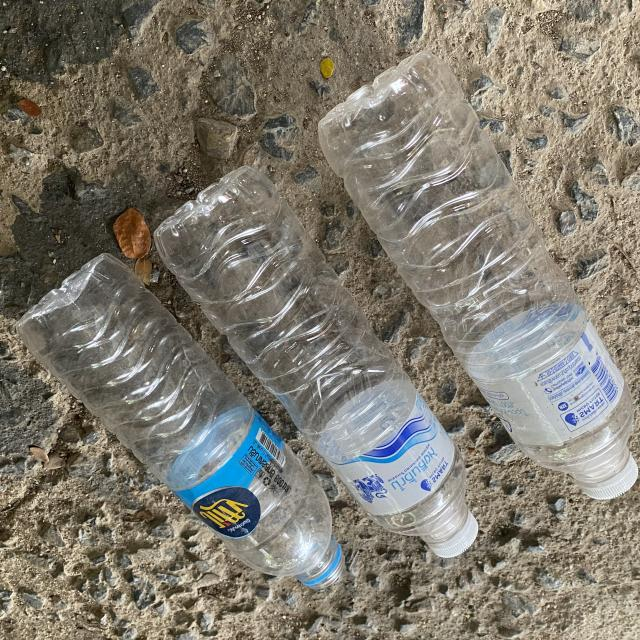plastik: (319, 51, 637, 499), (154, 167, 478, 557), (17, 254, 344, 589)
